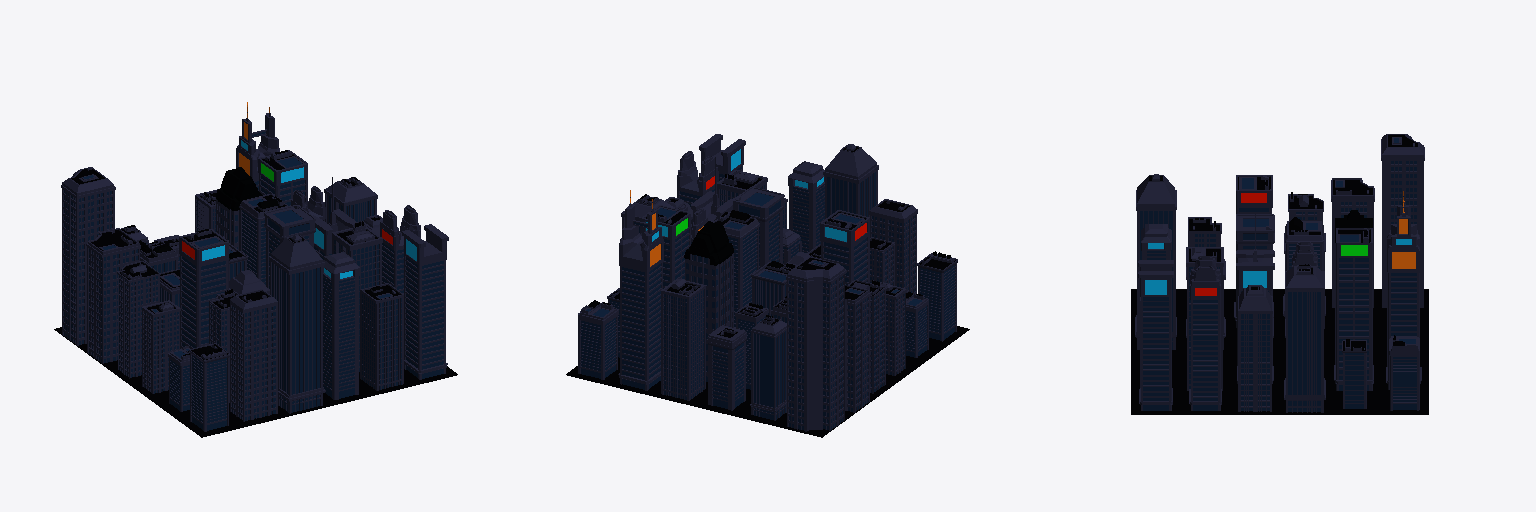
The model's file is city_pack.obj.
The picture shows the model from 3 angles: view 1: azimuth 30°, elevation 25°; view 2: azimuth 150°, elevation 25°; view 3: azimuth 270°, elevation 25°; orthographic projection.
Parts seen in each view (by area): view 1: Demo_Grid; view 2: Demo_Grid; view 3: Demo_Grid.
Part boxes in pixels (x1,y1,x2,y2): Demo_Grid: (54, 102, 457, 437); Demo_Grid: (566, 134, 969, 437); Demo_Grid: (1131, 134, 1428, 414).
Size of the model in its own units: 1.95 by 1.39 by 1.95.